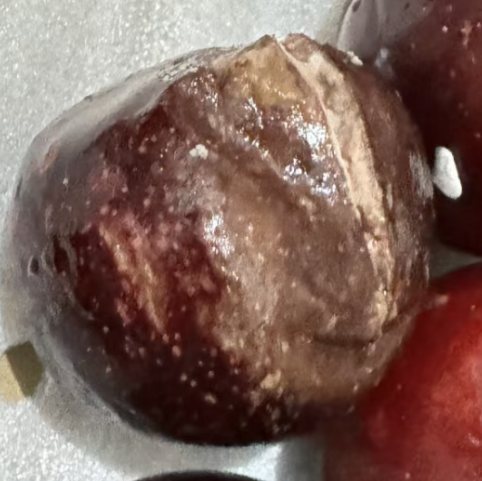plum_C: (6, 30, 436, 448)
